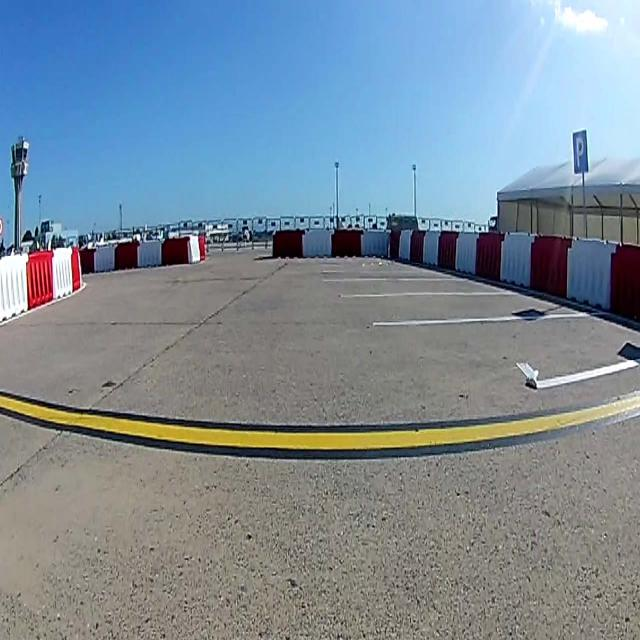park: (569, 130, 588, 172)
